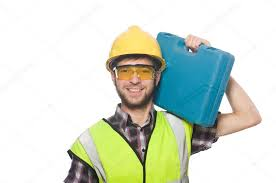Person_wearing_helmet: (101, 23, 175, 81)
